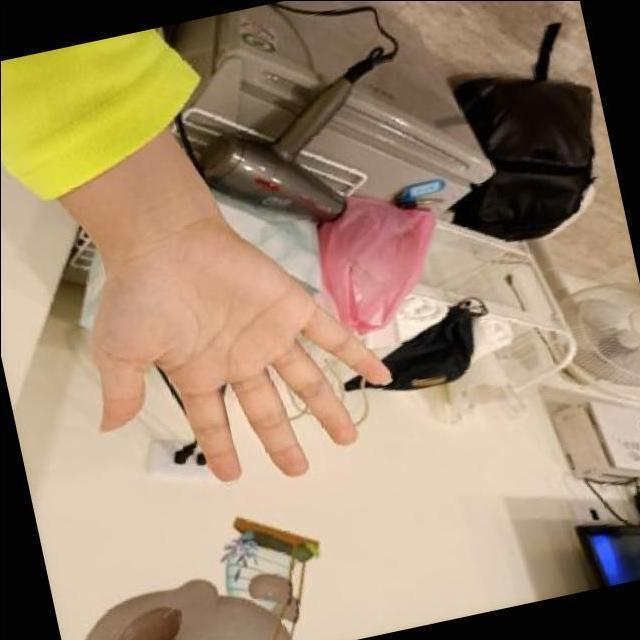hand: (48, 170, 416, 530)
